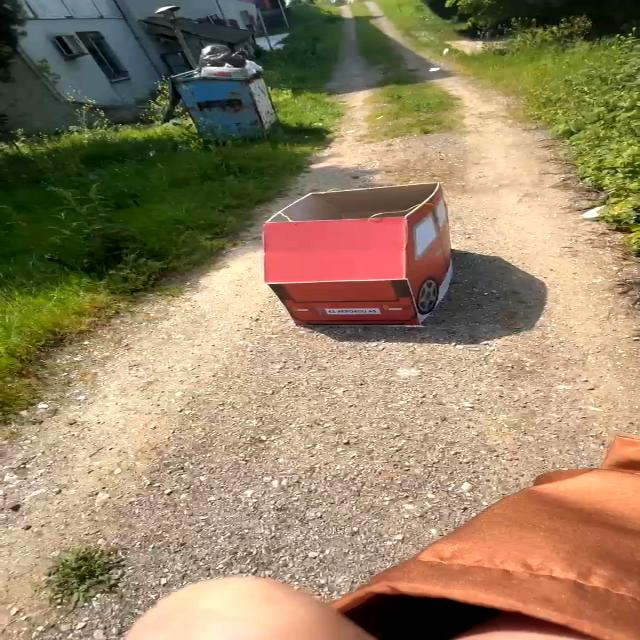red_car: (240, 173, 476, 347)
